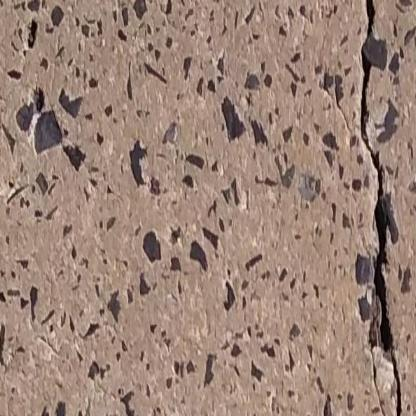Cracks: (357, 0, 407, 416)
